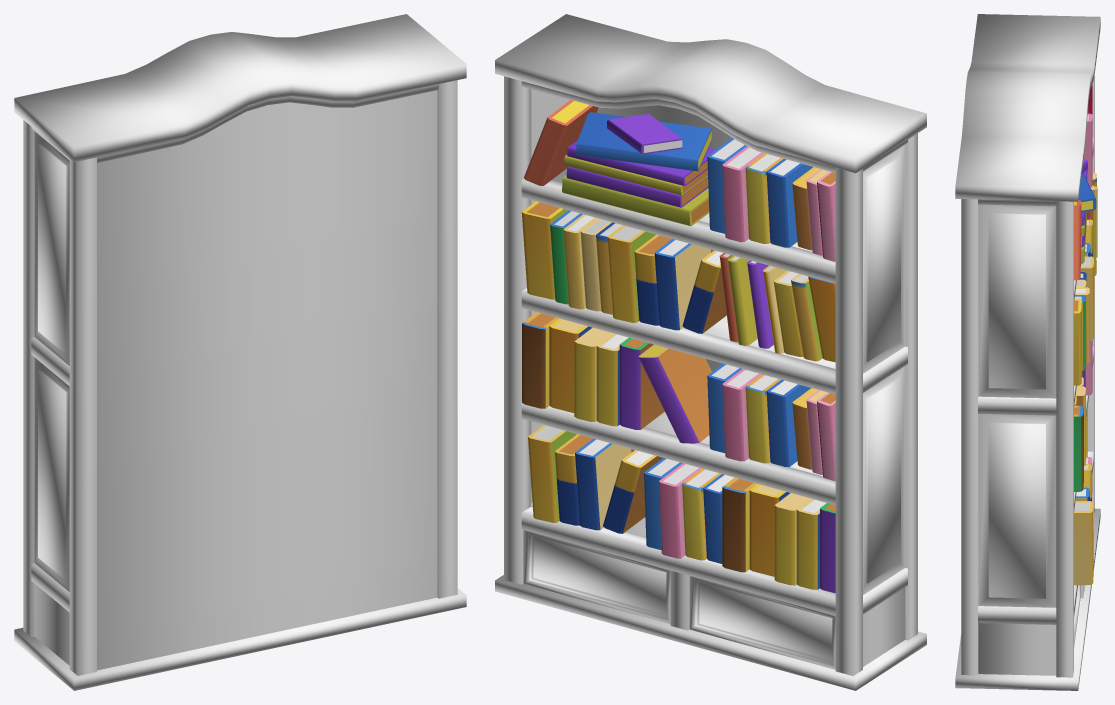
File: Living_Room_Bookshelf.fbx
The picture shows the model from 3 angles, left to right: view 1: azimuth 30°, elevation 25°; view 2: azimuth 150°, elevation 25°; view 3: azimuth 270°, elevation 25°; orthographic projection. The views are drawn at different scales.
Visible parts, largest first — view 1: Living_Room_Bookshelf.001; view 2: Living_Room_Bookshelf.001; view 3: Living_Room_Bookshelf.001.
Boxes of the visible parts, x1,y1,x2,y2 form: Living_Room_Bookshelf.001: (14, 14, 466, 690); Living_Room_Bookshelf.001: (495, 14, 926, 690); Living_Room_Bookshelf.001: (955, 14, 1100, 690).
Bounding box in the file's own units: 763 × 1064 × 268.
